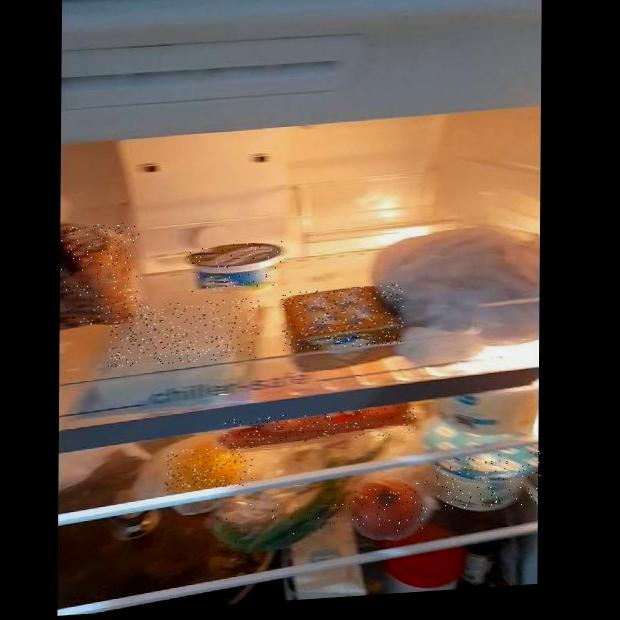bread: (61, 221, 144, 327)
butter: (282, 284, 403, 352)
carrot: (221, 406, 416, 447)
cheese: (108, 298, 260, 368)
green chilies: (210, 498, 347, 546)
lemon: (165, 445, 253, 491)
tomato: (348, 481, 429, 534)
yoghurt: (435, 451, 540, 511), (187, 241, 287, 292)
